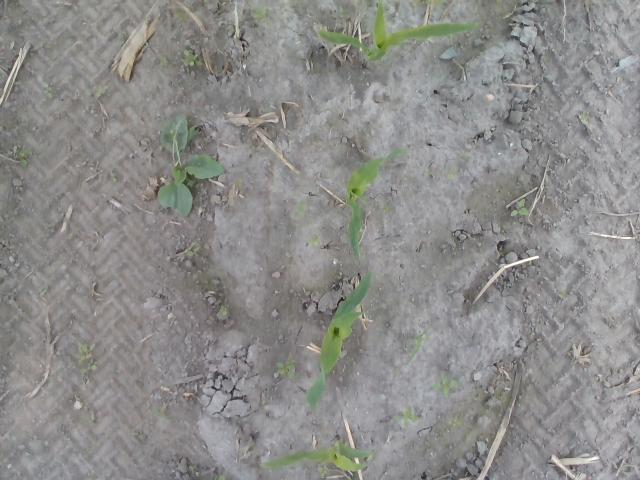Maize: (318, 0, 482, 63), (308, 271, 370, 411), (348, 150, 412, 258), (256, 436, 373, 474)
Weeds: (156, 112, 228, 219), (404, 332, 428, 360), (77, 342, 96, 376), (392, 408, 422, 428), (12, 146, 34, 170), (148, 404, 172, 426), (433, 376, 459, 395), (276, 360, 296, 380), (508, 200, 530, 218), (182, 50, 200, 68), (84, 85, 108, 98), (292, 201, 308, 220), (40, 82, 56, 100), (251, 8, 269, 22), (444, 166, 460, 180), (579, 110, 593, 125), (460, 152, 472, 166), (188, 243, 200, 257), (218, 303, 230, 317), (414, 0, 442, 6), (449, 418, 464, 428), (310, 237, 322, 249), (109, 170, 118, 184), (338, 5, 346, 19), (382, 203, 392, 214), (44, 376, 54, 385), (558, 292, 567, 301), (162, 56, 170, 66), (236, 178, 244, 187), (217, 475, 226, 480)
